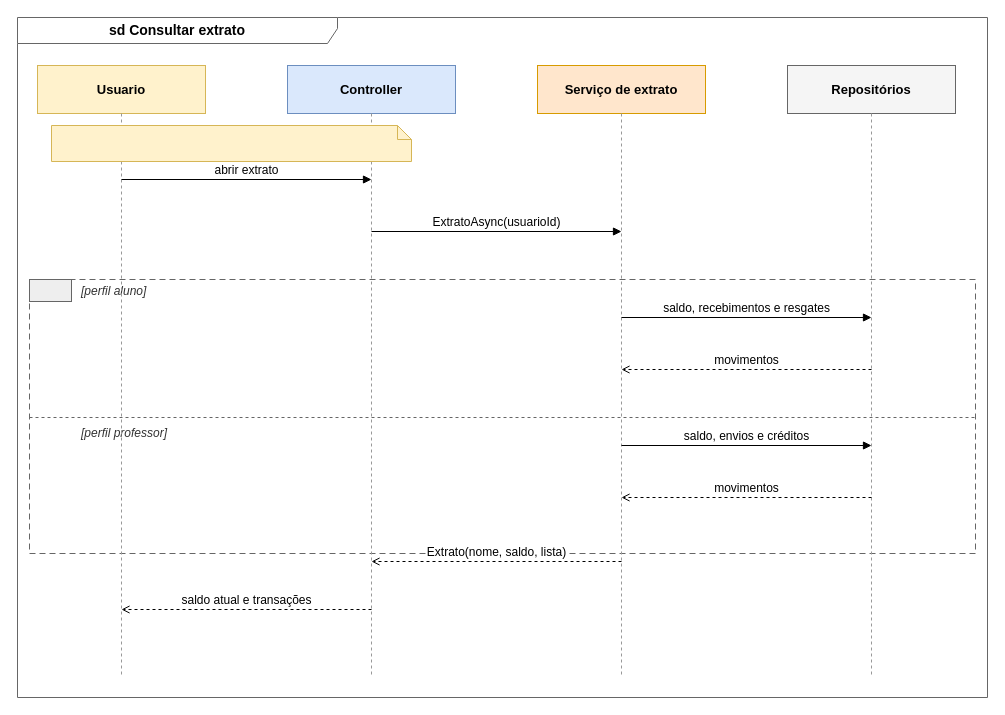
Image size: 1005x715. Some labels were removed from this diagram. Each missing label, with the box of its shape:
alt: (28, 278, 72, 302)
Professor passa antes por ref sd Creditar moedas do semestre.: (50, 124, 412, 162)
